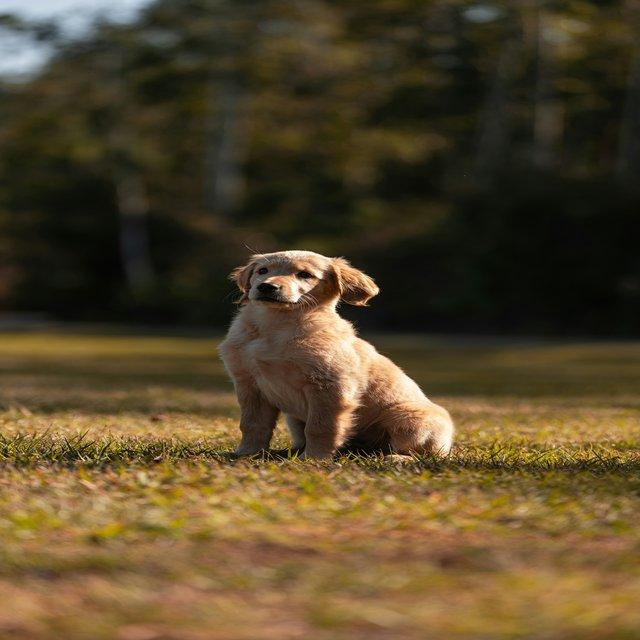retriever: (216, 248, 454, 463)
